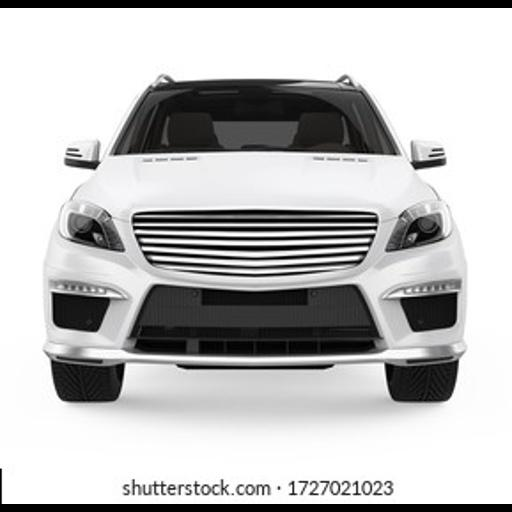suv: (44, 76, 464, 400)
